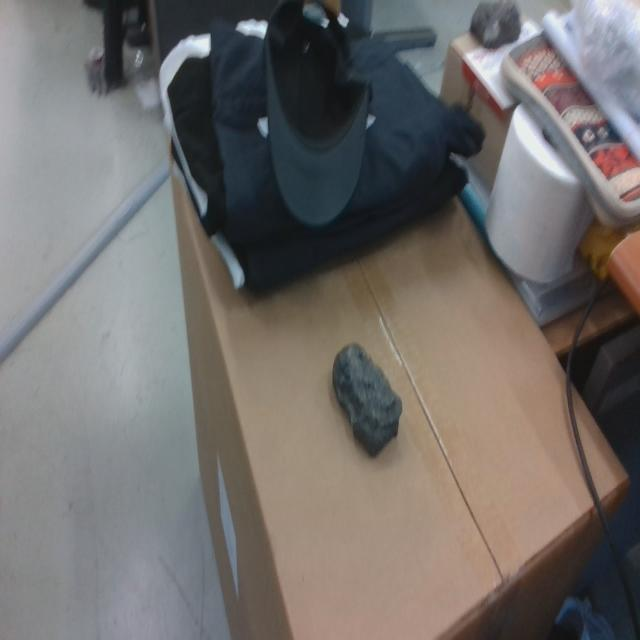stone: (332, 343, 404, 461)
